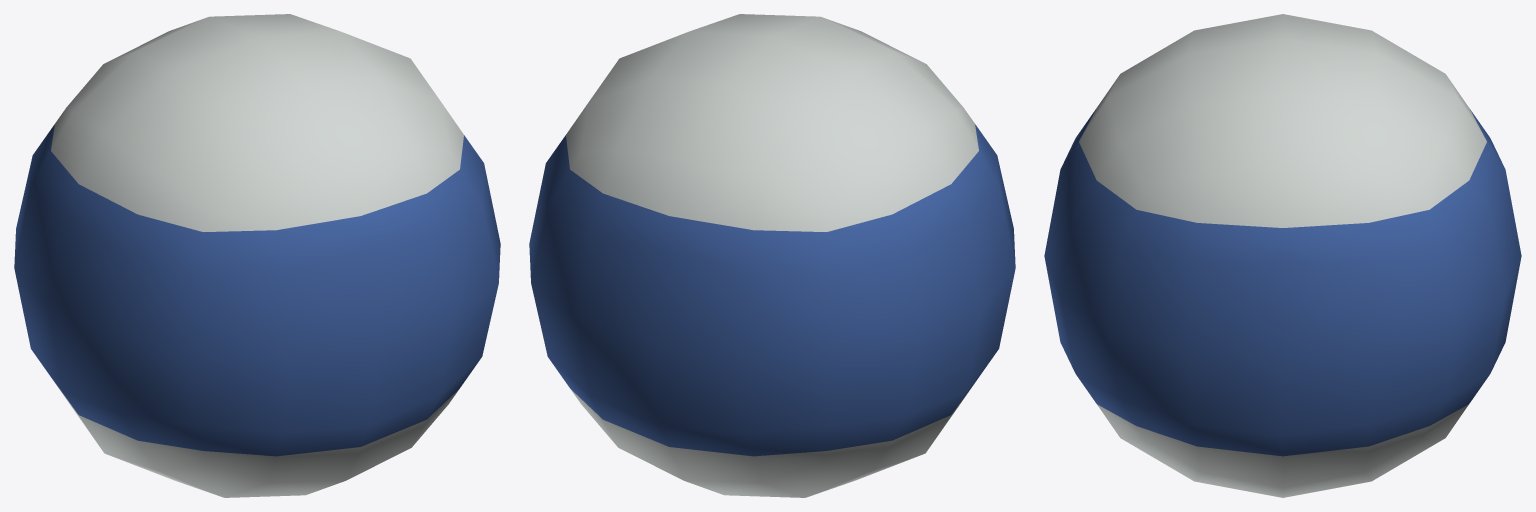
File: SM_Prop_PoolBall_Blue_01.obj
The picture shows the model from 3 angles, left to right: view 1: azimuth 30°, elevation 25°; view 2: azimuth 150°, elevation 25°; view 3: azimuth 270°, elevation 25°; orthographic projection.
Visible parts, largest first — view 1: SM_Prop_PoolBall_Blue_01_Mat_SwatchOverlay_PolygonOffice_01_Inst; view 2: SM_Prop_PoolBall_Blue_01_Mat_SwatchOverlay_PolygonOffice_01_Inst; view 3: SM_Prop_PoolBall_Blue_01_Mat_SwatchOverlay_PolygonOffice_01_Inst.
Part boxes in pixels (left/top/right/bottom): SM_Prop_PoolBall_Blue_01_Mat_SwatchOverlay_PolygonOffice_01_Inst: left=14, top=14, right=500, bottom=497; SM_Prop_PoolBall_Blue_01_Mat_SwatchOverlay_PolygonOffice_01_Inst: left=529, top=14, right=1015, bottom=497; SM_Prop_PoolBall_Blue_01_Mat_SwatchOverlay_PolygonOffice_01_Inst: left=1044, top=14, right=1521, bottom=497.
Size of the model in its own units: 0.1096 by 0.1096 by 0.1096.
Materials: 1 (1 with a texture image).
